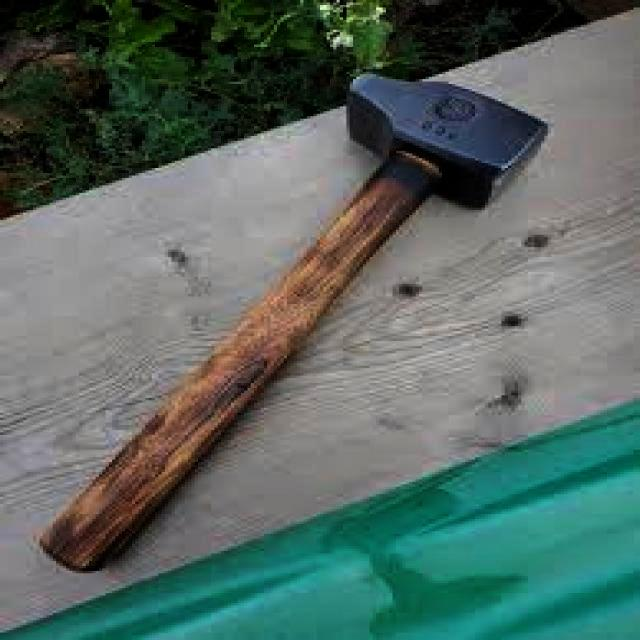hammer: (29, 70, 564, 580)
